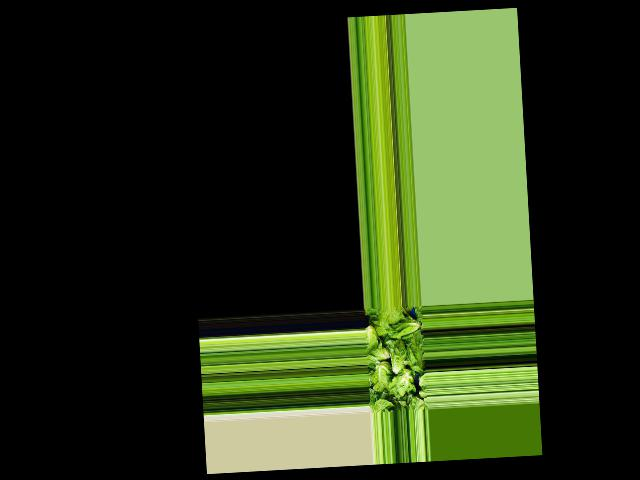lettuce: (365, 320, 380, 355)
